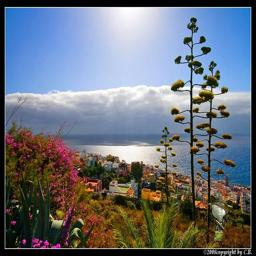Cuckoo: (208, 201, 228, 241)
